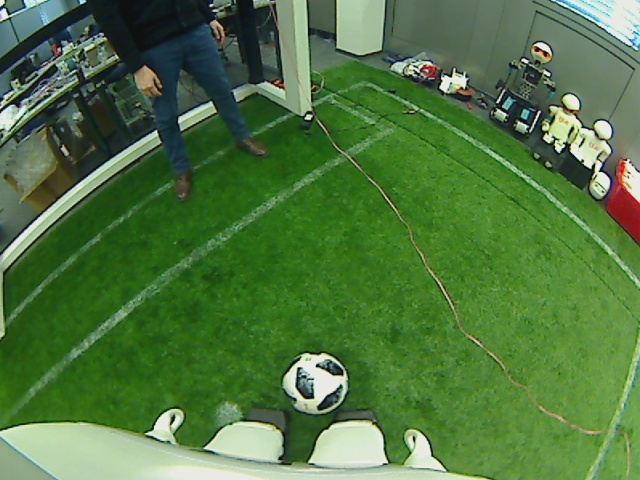ball: (278, 350, 351, 413)
